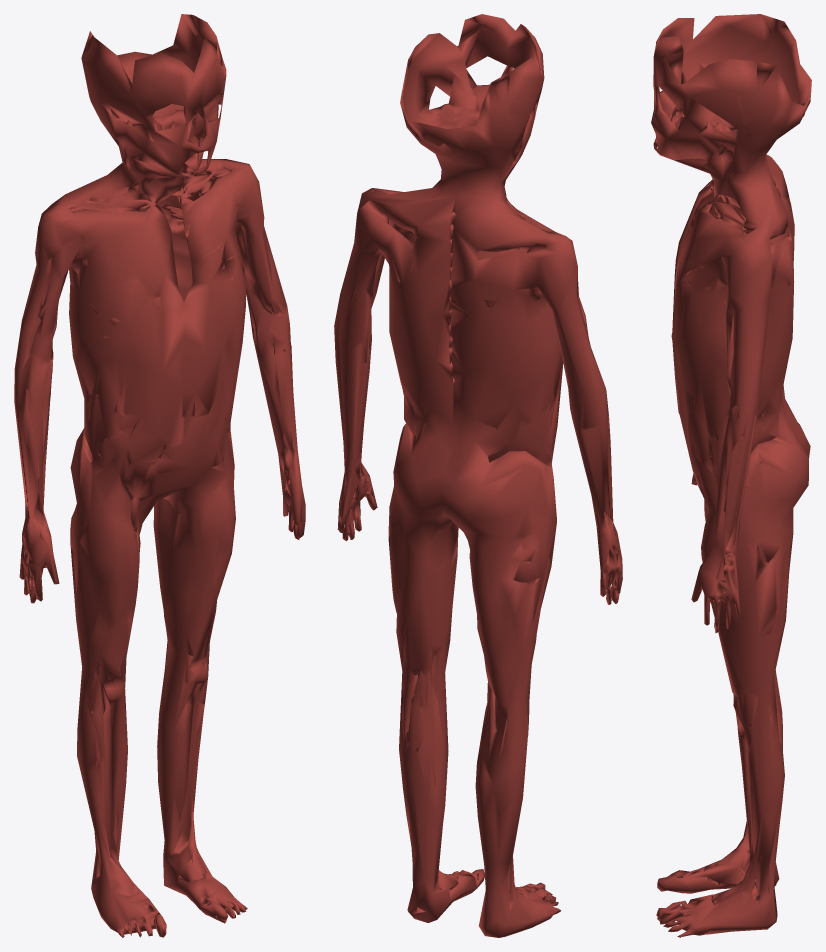
File: pediatric_child_5y_male.muscular.LOD3.glb
3 views of the same model, side by side, from view 1: azimuth 30°, elevation 25°; view 2: azimuth 150°, elevation 25°; view 3: azimuth 270°, elevation 25° (orthographic).
Parts seen in each view (by area): view 1: PEDIATRIC.CHILD_5Y.MALE.MUSCULAR.MUSCLE; view 2: PEDIATRIC.CHILD_5Y.MALE.MUSCULAR.MUSCLE; view 3: PEDIATRIC.CHILD_5Y.MALE.MUSCULAR.MUSCLE.
Boxes of the visible parts, left/top/right/bottom form: PEDIATRIC.CHILD_5Y.MALE.MUSCULAR.MUSCLE: left=14, top=14, right=305, bottom=937; PEDIATRIC.CHILD_5Y.MALE.MUSCULAR.MUSCLE: left=334, top=14, right=622, bottom=937; PEDIATRIC.CHILD_5Y.MALE.MUSCULAR.MUSCLE: left=651, top=14, right=811, bottom=937.
Bounding box in the file's own units: 0.3468 × 1.06 × 0.1757.
